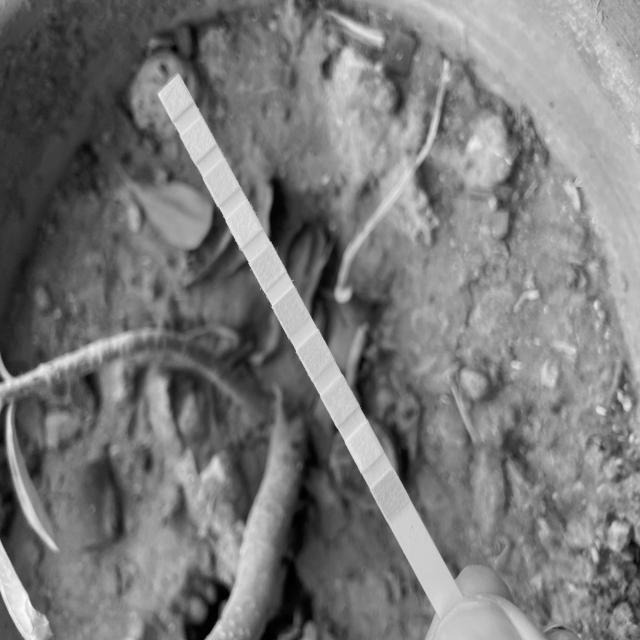Bilirubin: (355, 432, 373, 463)
Blood: (284, 298, 300, 324)
Glucose: (382, 480, 399, 510)
Ketone: (331, 388, 348, 416)
Leukocytes: (167, 85, 186, 111)
Nitrite: (191, 128, 208, 153)
Protein: (234, 212, 254, 237)
SpGravity: (306, 341, 324, 370)
Urobilinogen: (213, 170, 230, 194)
background: (0, 0, 640, 640)
pH: (260, 253, 276, 281)
strip: (158, 74, 462, 618)
